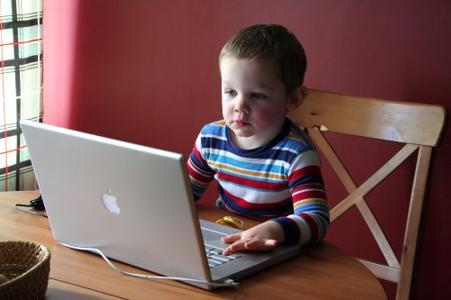person: (182, 23, 332, 256)
